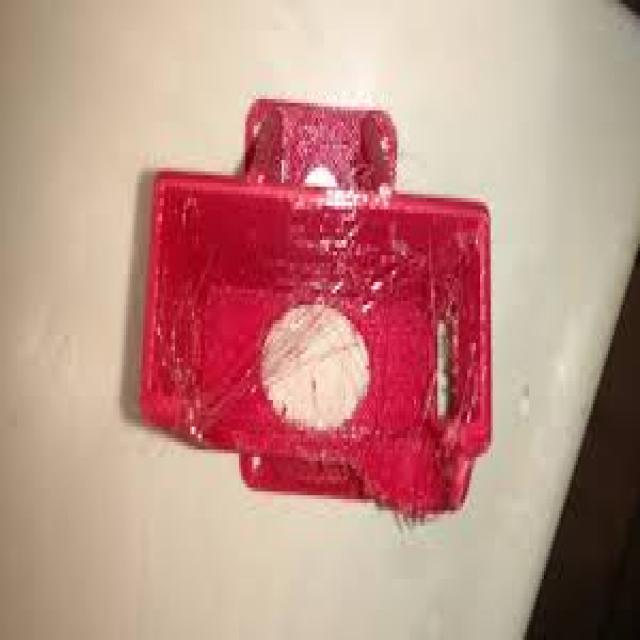Stringing: (168, 191, 478, 431)
